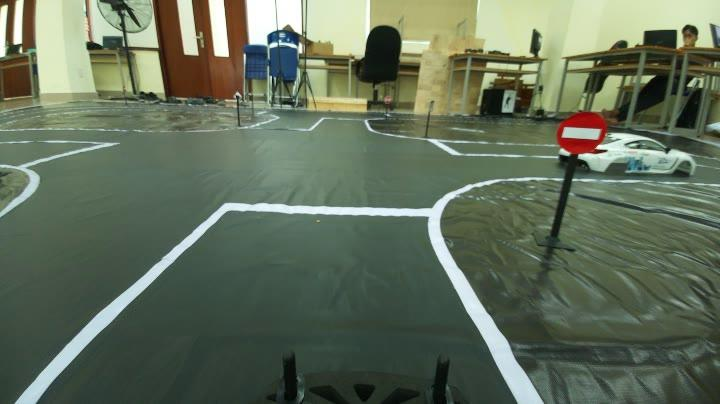no_entry: (550, 104, 604, 150)
